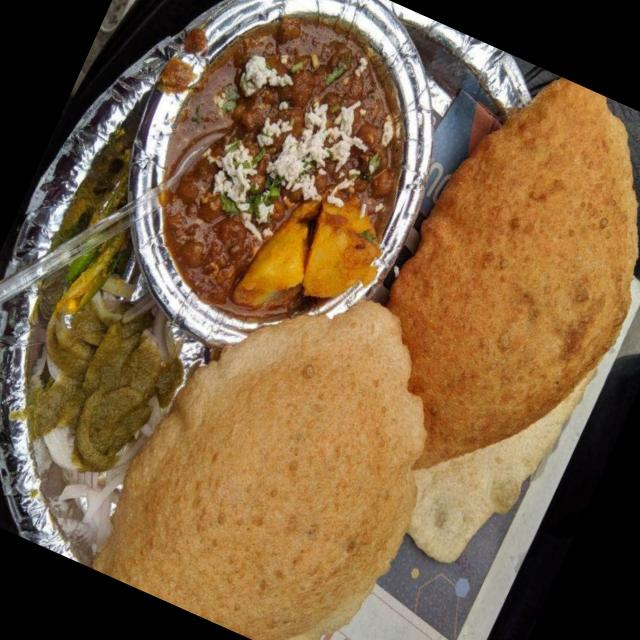Bhatura: (83, 235, 487, 640), (329, 50, 640, 527)
Chole: (124, 0, 453, 337)
